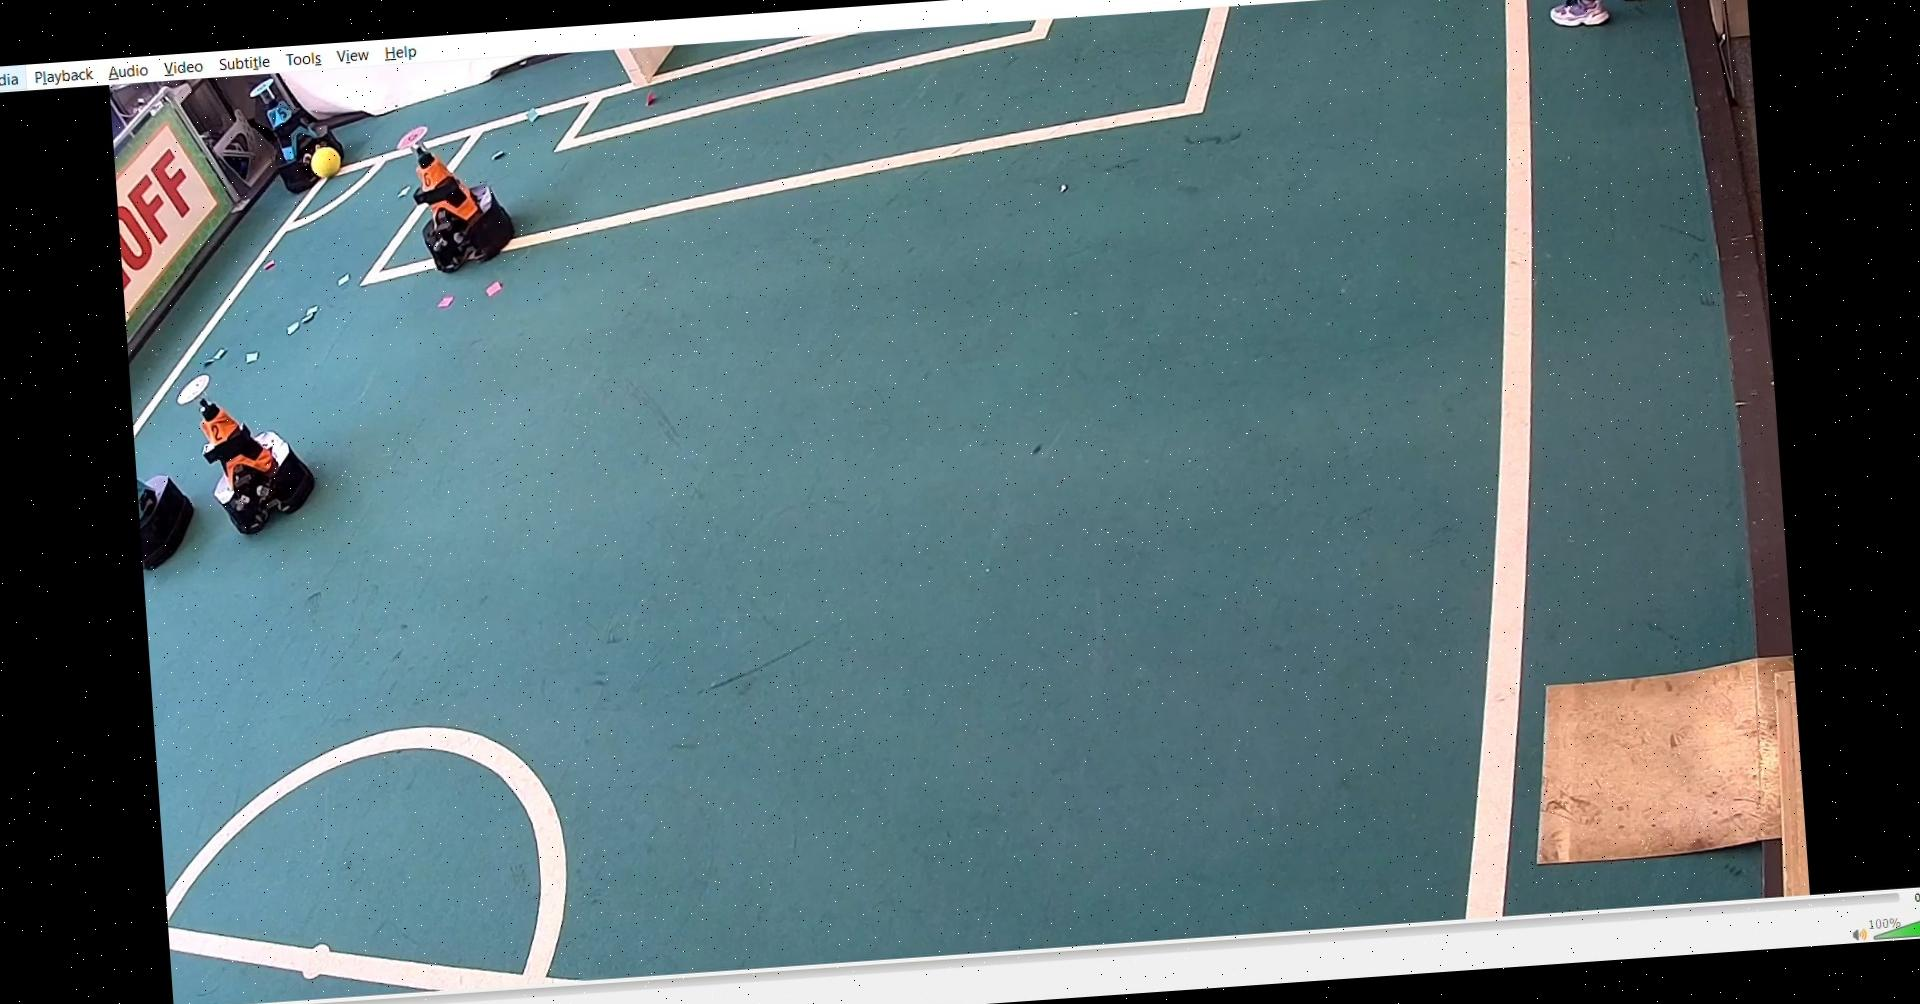Ball: (304, 142, 344, 179)
Team_Blue: (247, 73, 351, 194)
Team_Red: (164, 358, 326, 538), (388, 114, 532, 283)
